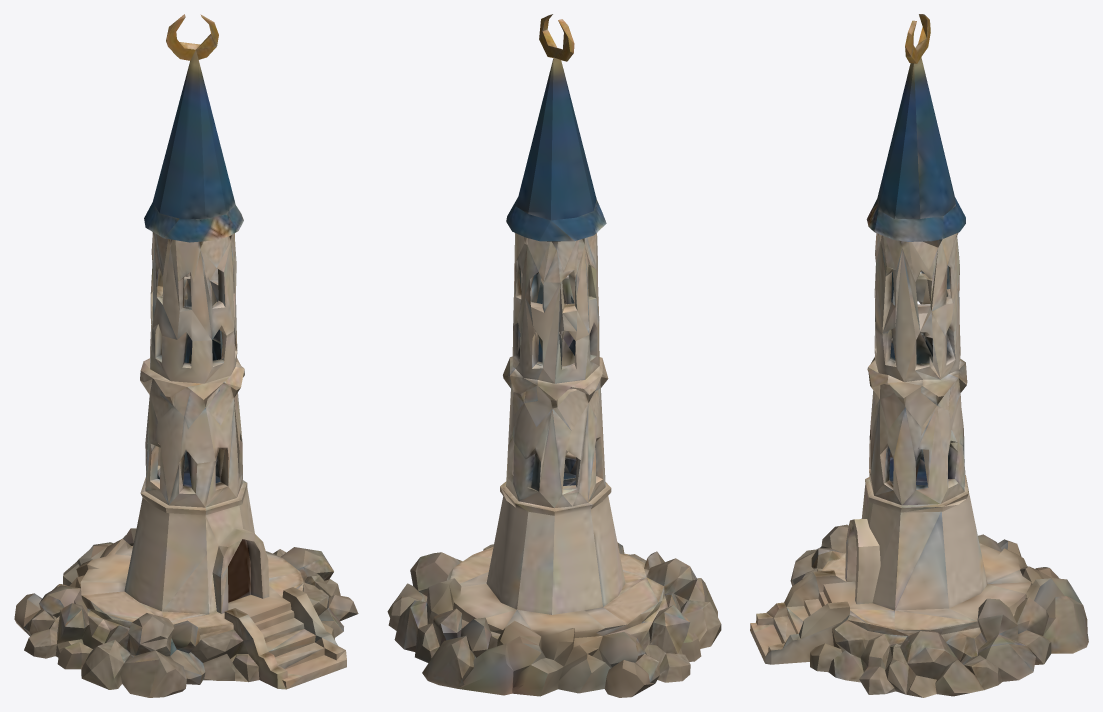
The model's file is elftower.glb.
The picture shows the model from 3 angles, left to right: view 1: azimuth 30°, elevation 25°; view 2: azimuth 150°, elevation 25°; view 3: azimuth 270°, elevation 25°; orthographic projection.
Size of the model in its own units: 0.9456 by 1.88 by 0.9474.
1 material, 1 textured.
